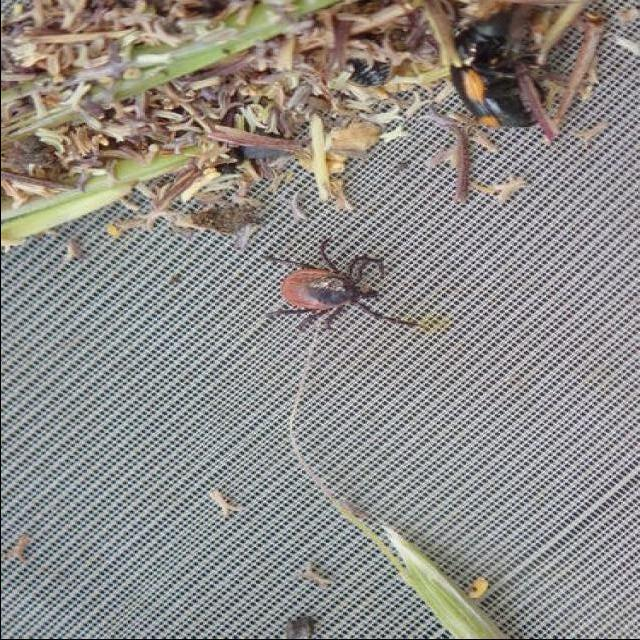Ixodes Ricinus-F: (265, 243, 428, 332)
